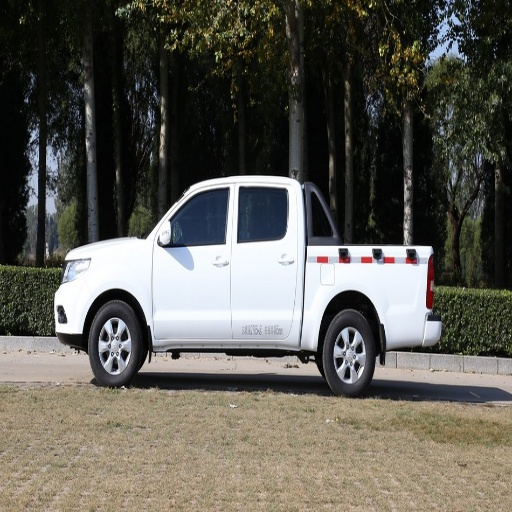back_glass: (231, 183, 301, 336)
front_glass: (152, 185, 235, 337)
tailgate: (301, 240, 431, 349)
trunk: (321, 310, 376, 395), (88, 301, 142, 386)
